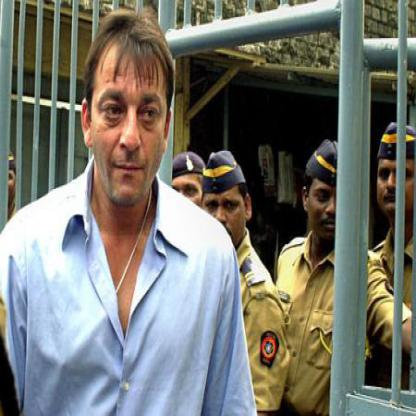face: (91, 18, 169, 207), (202, 161, 247, 252), (308, 154, 354, 243), (171, 158, 207, 227)
